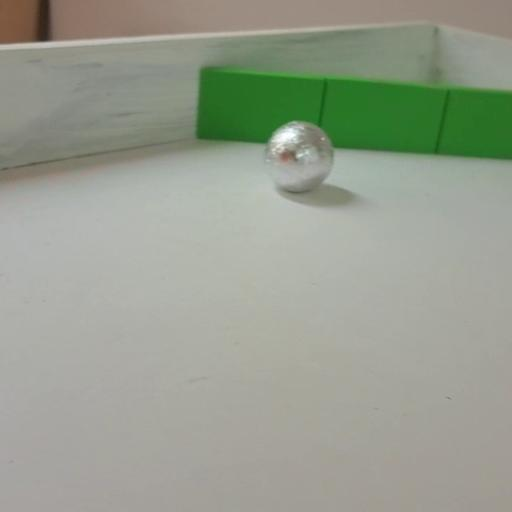alive: (264, 120, 334, 192)
